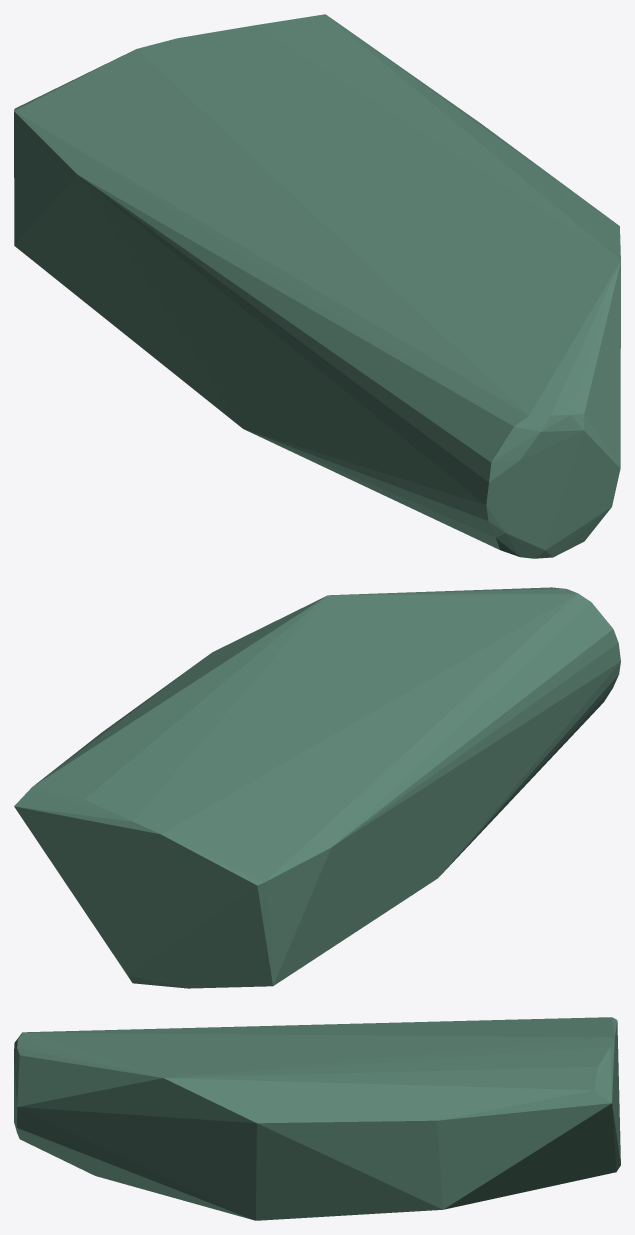
The model's file is consumable_brake_fluid_a01.glb.
The picture shows the model from 3 angles, top to bottom: view 1: azimuth 30°, elevation 25°; view 2: azimuth 150°, elevation 25°; view 3: azimuth 270°, elevation 25°; orthographic projection. The views are drawn at different scales.
Parts seen in each view (by area): view 1: geometry_0; view 2: geometry_0; view 3: geometry_0.
Part boxes in pixels (x1,y1,x2,y2): geometry_0: [14, 14, 620, 558]; geometry_0: [14, 587, 620, 988]; geometry_0: [14, 1017, 620, 1220].
Bounding box in the file's own units: 0.2059 × 0.1183 × 0.48.
